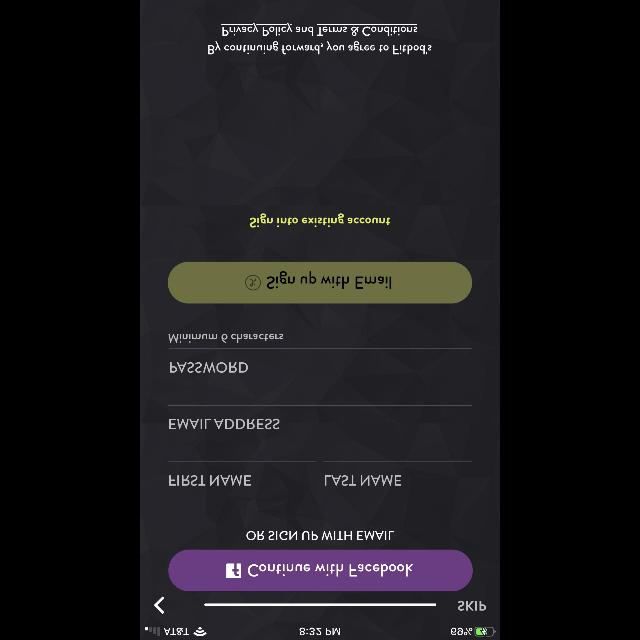icon: (154, 596, 164, 614)
input: (168, 405, 472, 429), (170, 349, 472, 373), (324, 460, 472, 486), (168, 461, 316, 485)
text: (208, 23, 432, 55), (250, 212, 390, 228), (246, 531, 394, 541), (170, 418, 280, 429), (168, 333, 284, 343), (169, 474, 251, 486), (170, 362, 248, 372), (324, 476, 402, 486), (458, 601, 486, 611)
textbutton: (169, 549, 473, 591), (168, 262, 472, 304)
uppertaskbar: (140, 626, 500, 640)
